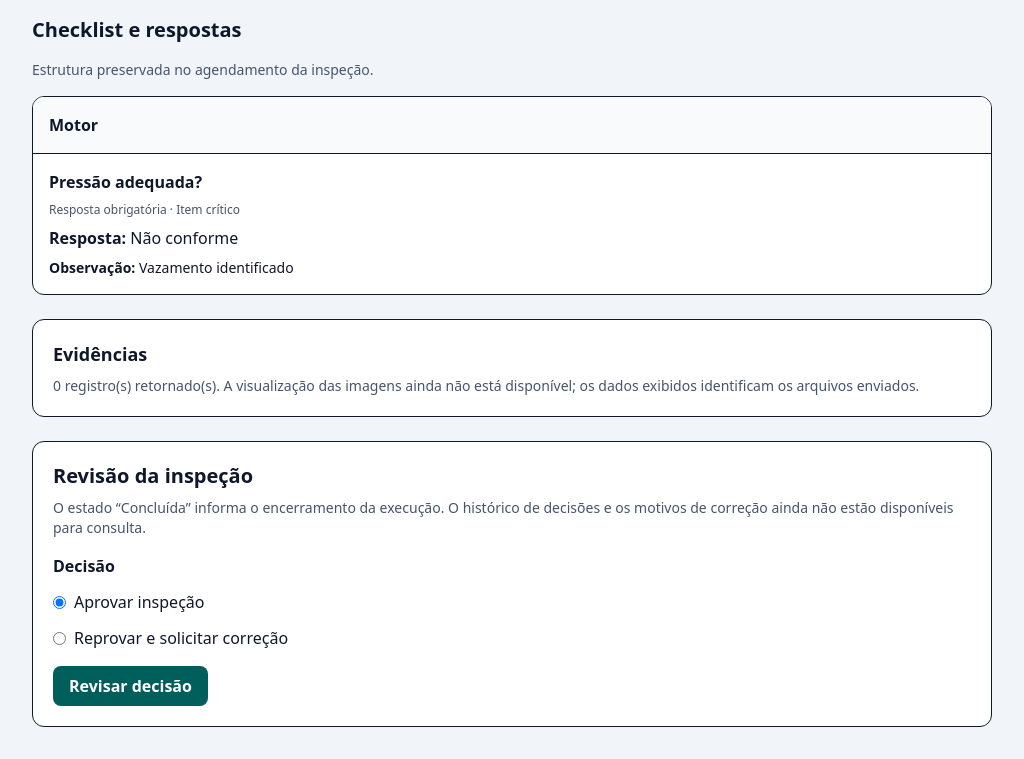
Test: devolve a inspeção para correção somente após resposta de sucesso
(page scrolled)
Click the radio button labelled "Reprovar e solicitar correção" at (60, 638), box [53,632,66,644]
(page scrolled)
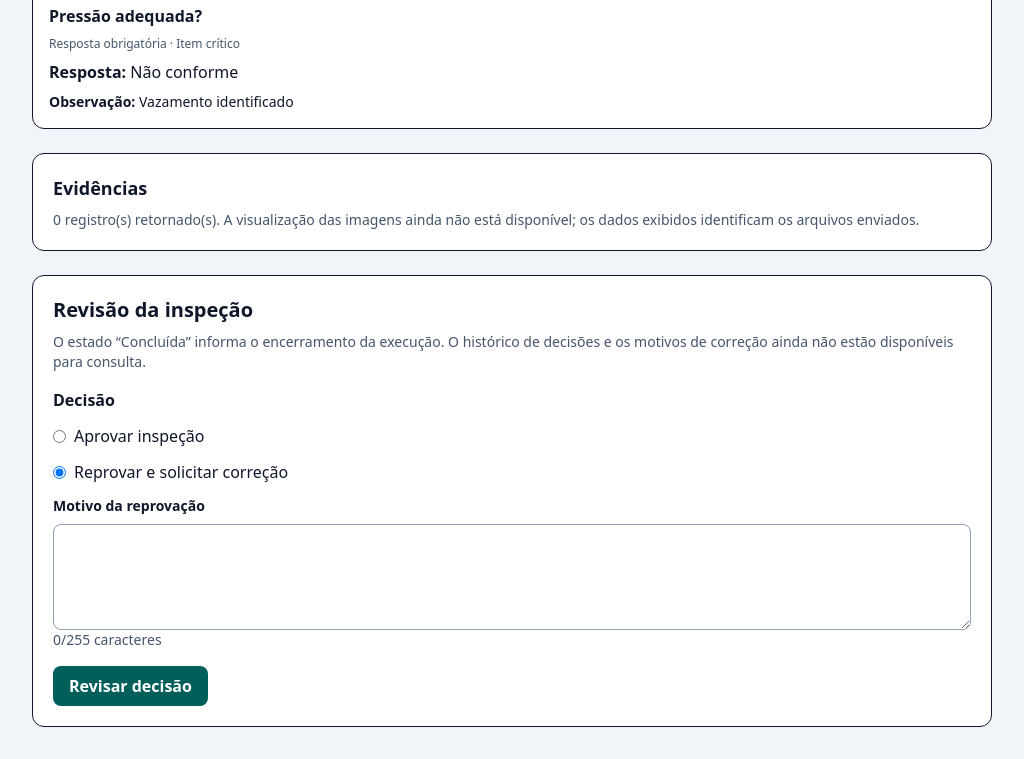
Type "Corrigir vazamento e reenviar" into the text box labelled "Motivo da reprovação 0/255 caracteres" at (512, 577), box [53,524,971,630]
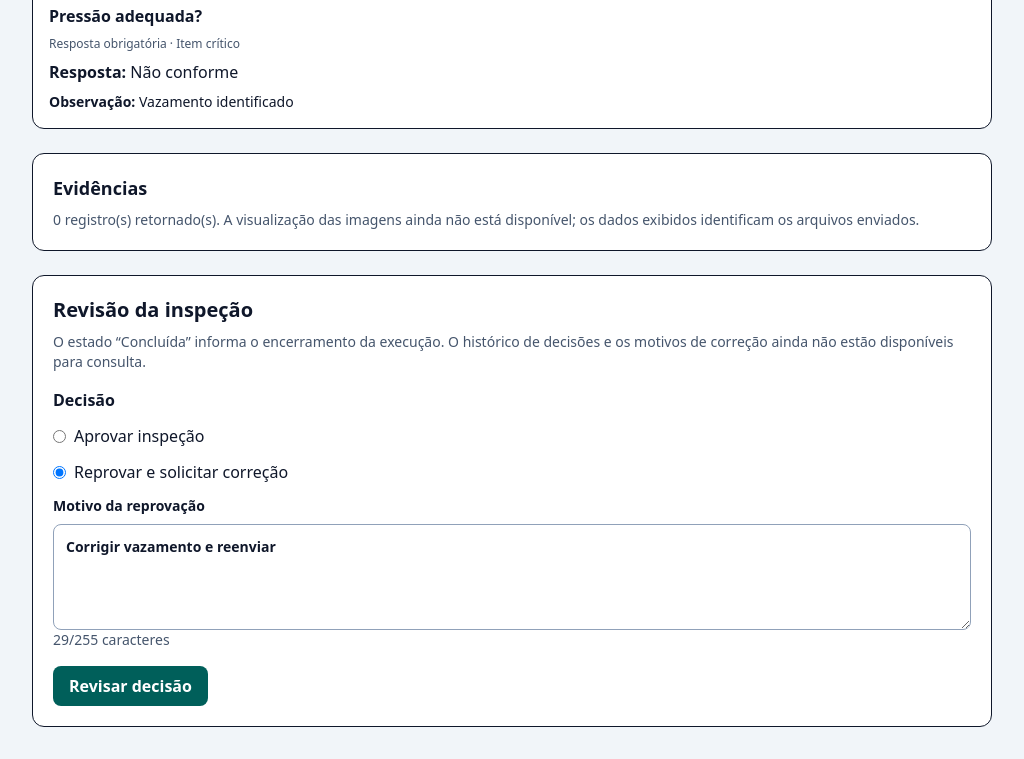
Click the button "Revisar decisão" at (130, 686), box [53,666,208,706]
(page scrolled)
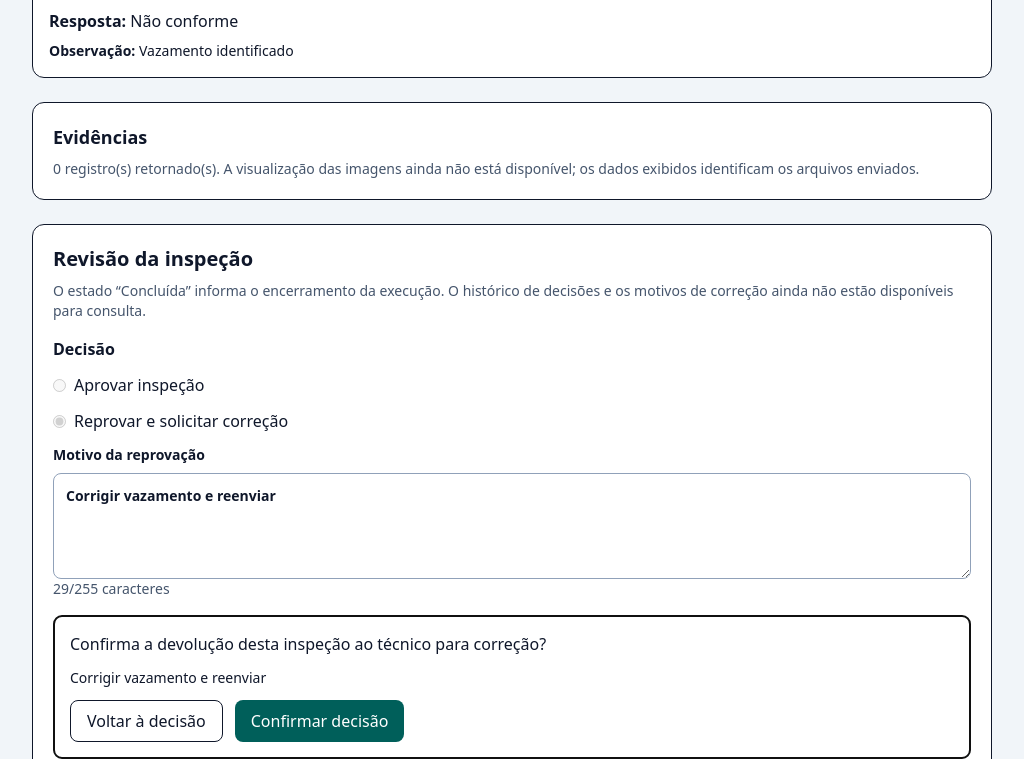
Click the button "Confirmar decisão" at (320, 721), box [235,700,404,742]
(page scrolled)
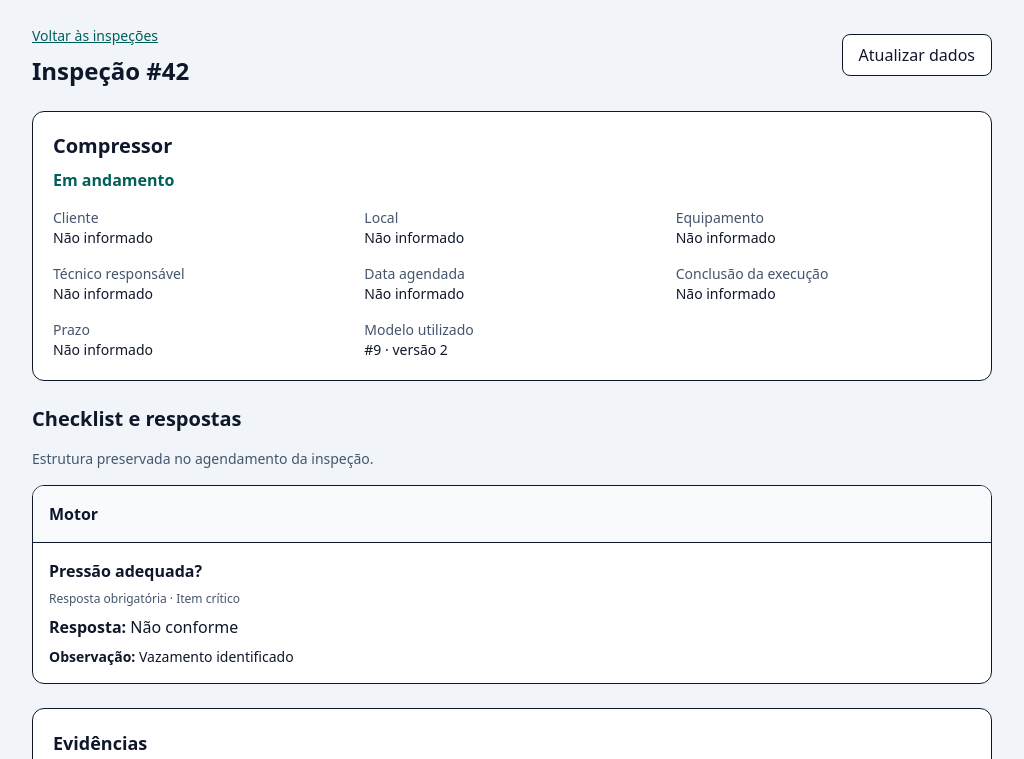
Expected: the text "Em andamento" is shown, [53,169,174,191]
